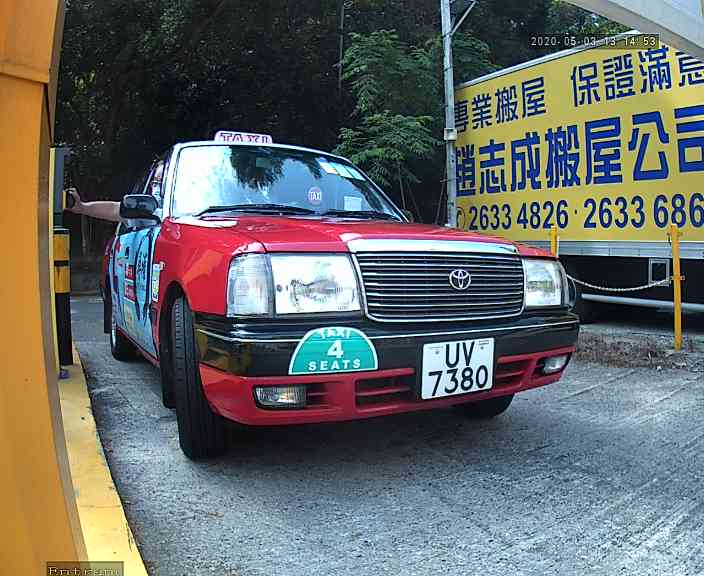taxi: (87, 123, 598, 466)
taxi_mark: (281, 311, 394, 386)
